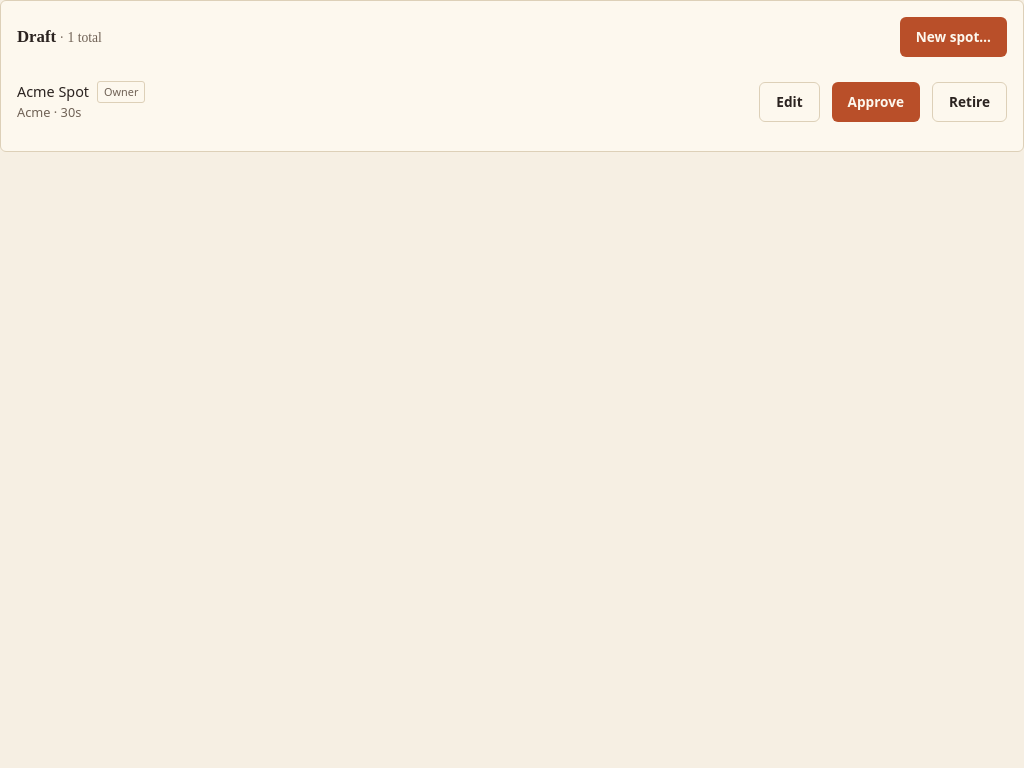
Test: Feature: Approve tells me when the station will render it › Scenario: one minute is singular › toasts '... within 1 minute.' — AC6
Click the button "Approve". click: x=876, y=102
box: [832, 82, 920, 122]
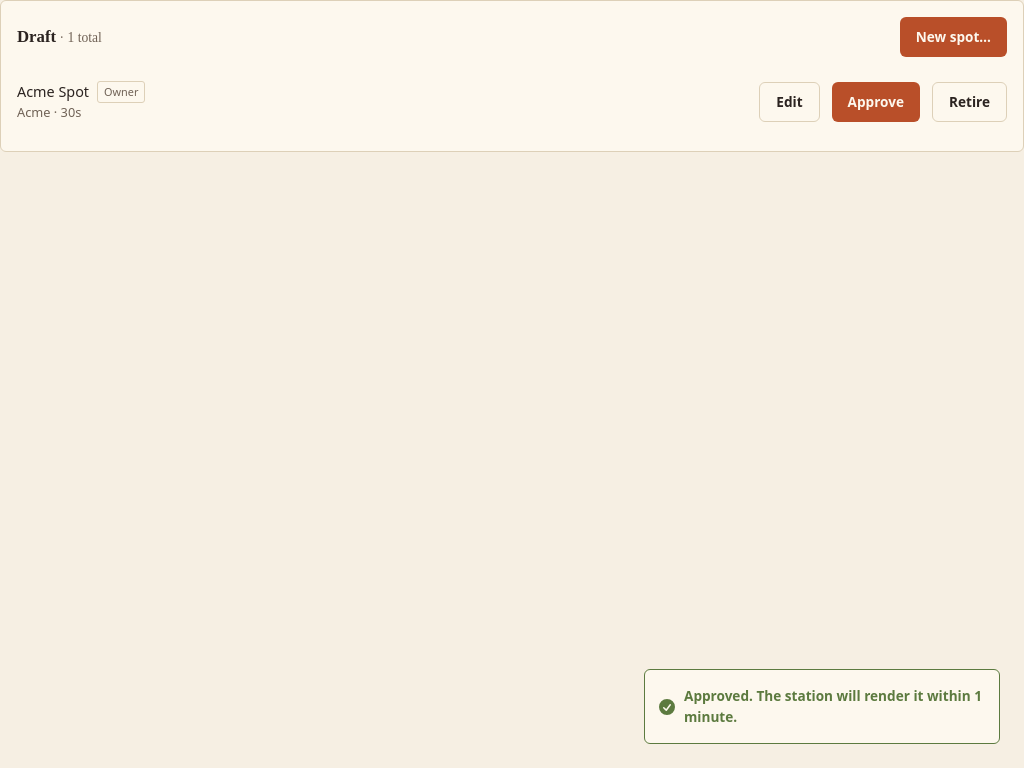
Expected: the text "Approved. The station will render it within 1 minute." is shown, [684, 686, 983, 727]
